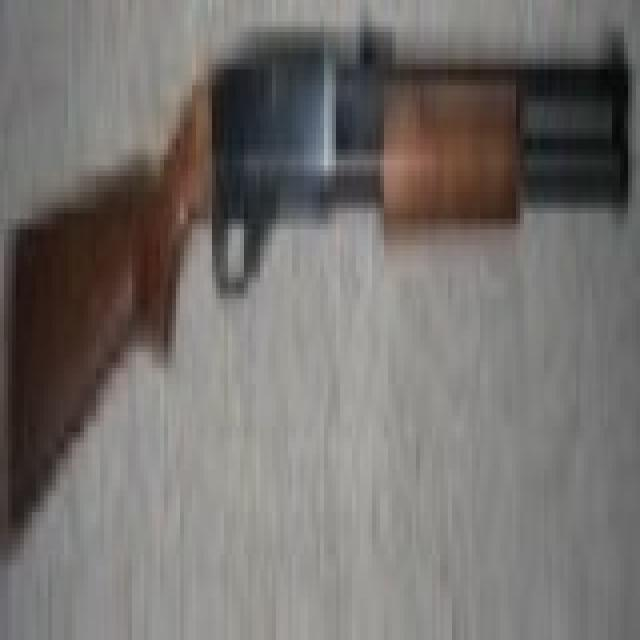Gun: (8, 25, 638, 521)
